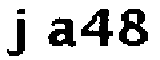4: (78, 4, 115, 47)
8: (118, 7, 147, 48)
a: (42, 16, 79, 51)
j: (3, 6, 28, 60)
